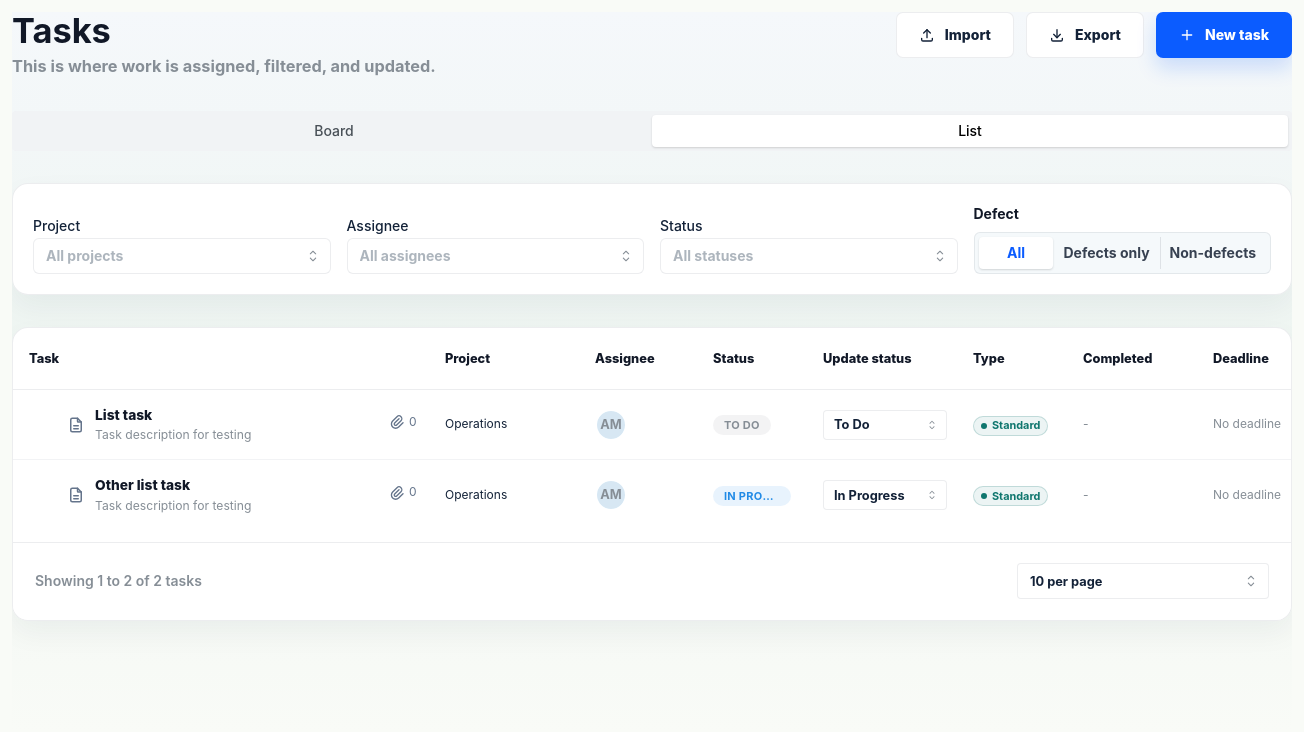
Scenario: TasksPage status movement safety › disables only the pending task status control in List view
Click the field next to "To Do".
click(885, 425)  # box [823,410,947,440]
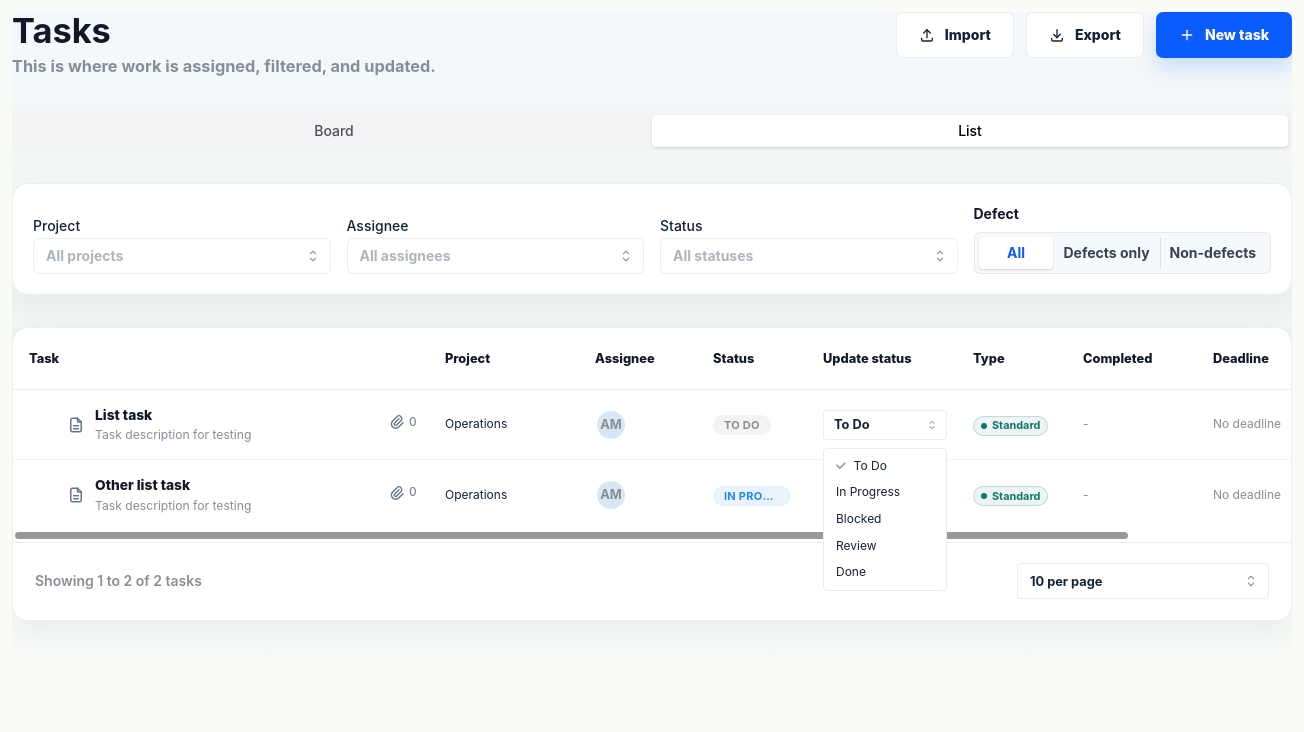
Click the option "Done".
click(851, 572)  # box [836,564,866,579]
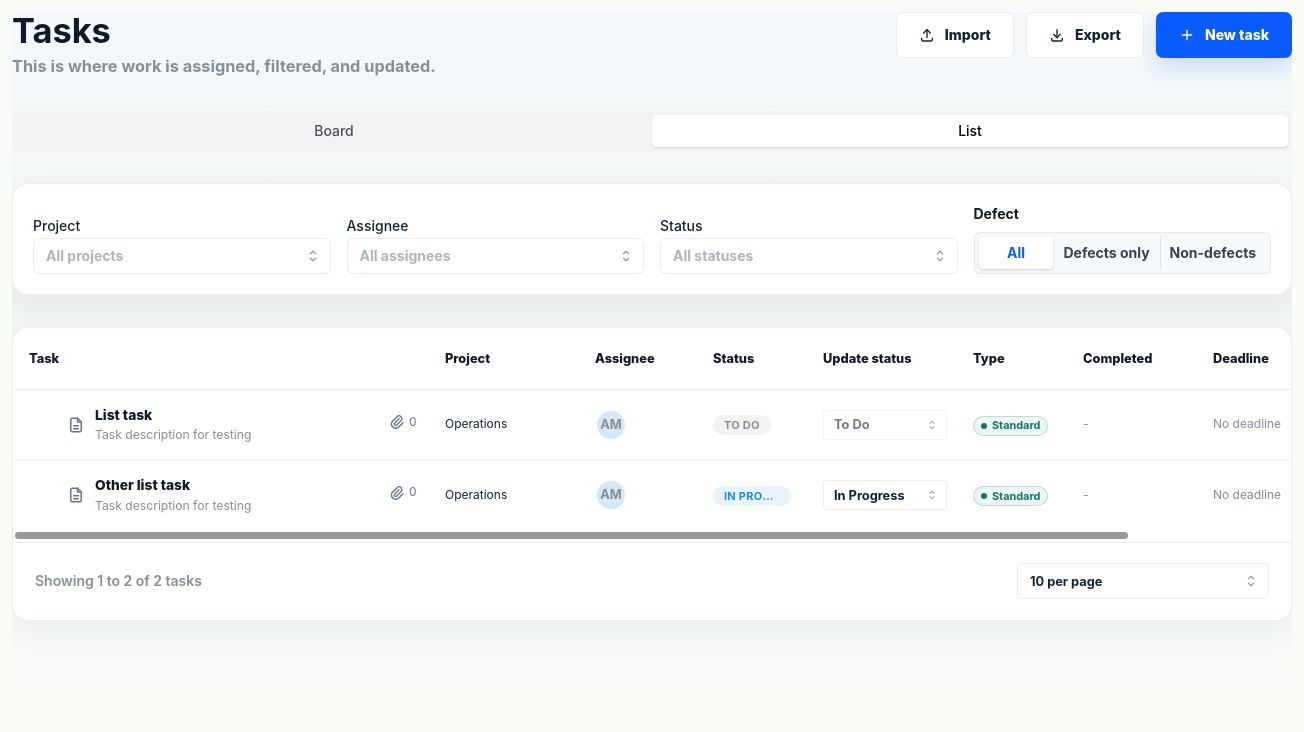
expect the field in the row of "Other list task" is enabled: met, box [823,480,947,510]
expect the field next to "To Do" is disabled: met, box [823,410,947,440]
